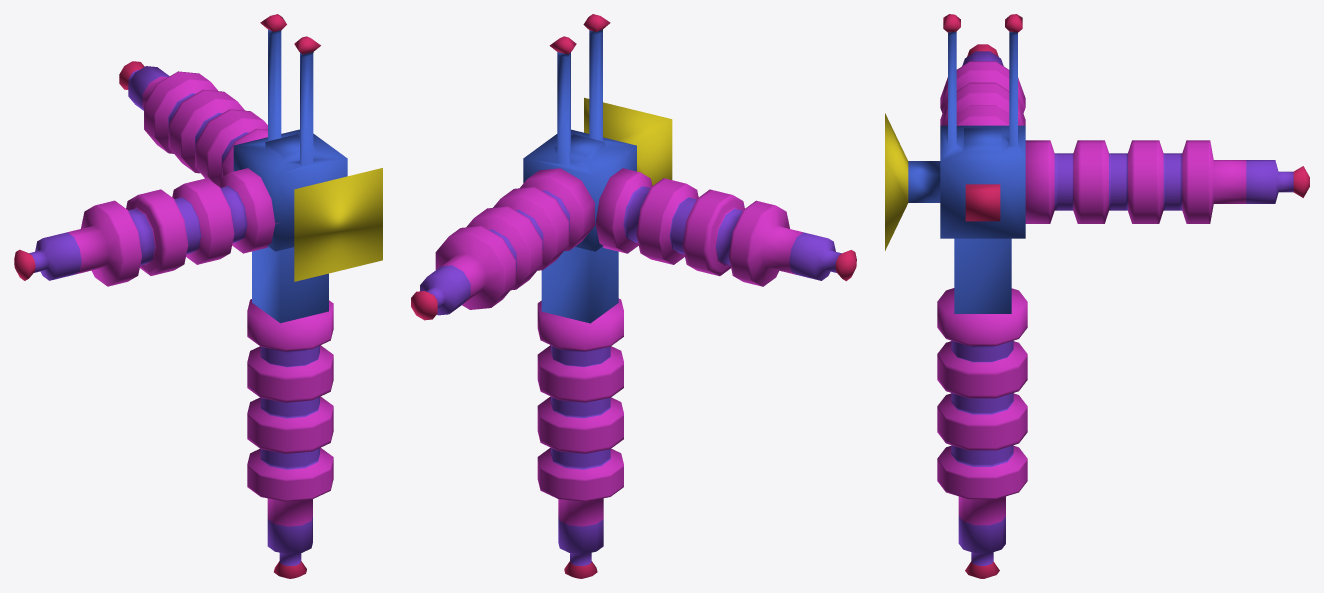
Rendered from thing.fbx.
The picture shows the model from 3 angles, left to right: view 1: azimuth 30°, elevation 25°; view 2: azimuth 150°, elevation 25°; view 3: azimuth 270°, elevation 25°; orthographic projection. The views are drawn at different scales.
Parts seen in each view (by area): view 1: Cube, Cube.001, Cube.002; view 2: Cube, Cube.001, Cube.002; view 3: Cube, Cube.001, Cube.002.
Part boxes in pixels (x1,y1,x2,y2): Cube: (14, 14, 382, 323); Cube.001: (247, 299, 333, 578); Cube.002: (119, 61, 267, 185); Cube: (523, 14, 856, 323); Cube.001: (537, 298, 623, 578); Cube.002: (411, 168, 594, 320); Cube: (885, 14, 1025, 313); Cube.001: (937, 288, 1027, 578); Cube.002: (1025, 140, 1309, 223).
Bounding box in the file's own units: 8.91 × 14.55 × 9.98.
